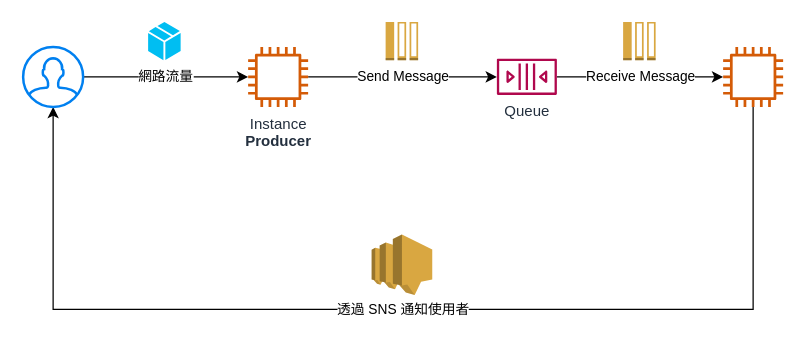
The diagram is 811 pixels wide and 341 high, and some of its shapes have lost their labels. The shapes that lost their labels are listed below. From the top down, each one's centre as x and y in pixels, then its label:
At point (52, 76): "User".
At point (752, 76): "Instance Consumer".
